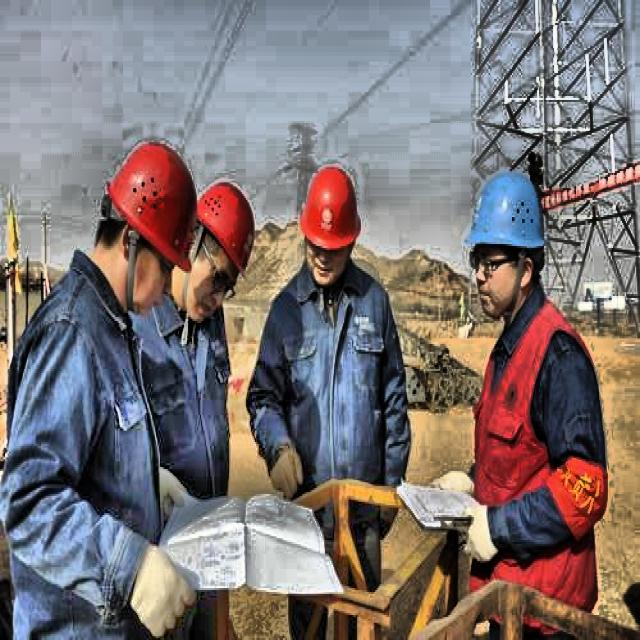helmet: (99, 132, 202, 306), (461, 165, 553, 327), (184, 173, 261, 302), (296, 158, 364, 292)
